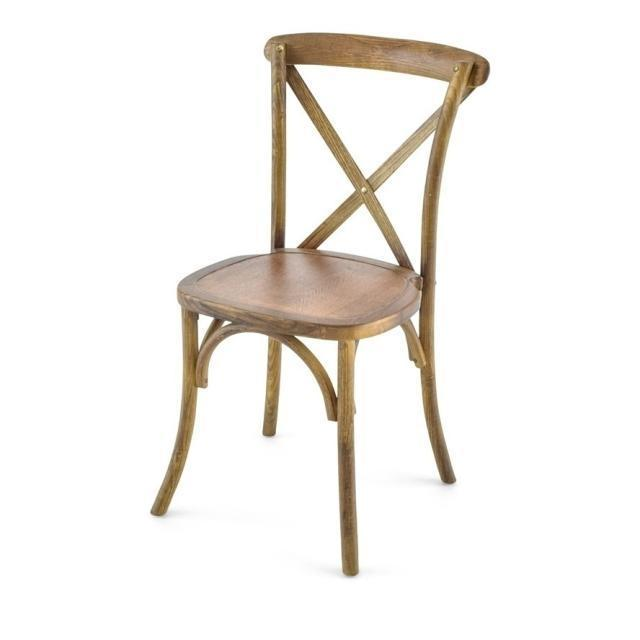chair: (147, 31, 490, 580)
